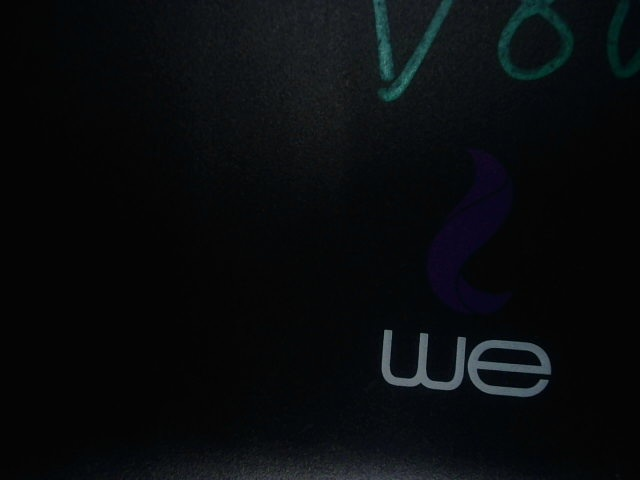AT_We: (334, 139, 565, 404)
